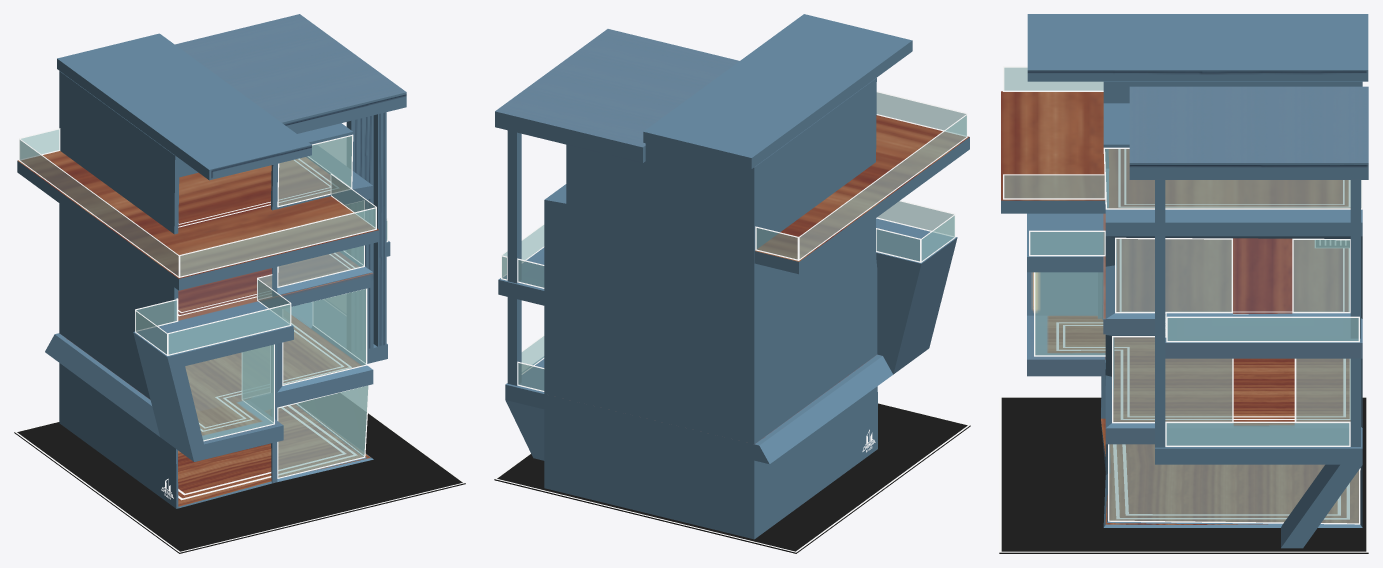
The model's file is Dhingia Builds 29 Size 1x1.glb.
The picture shows the model from 3 angles, left to right: view 1: azimuth 30°, elevation 25°; view 2: azimuth 150°, elevation 25°; view 3: azimuth 270°, elevation 25°; orthographic projection. The views are drawn at different scales.
Parts seen in each view (by area): view 1: Building, Building.001, Glass, Ground, Lights; view 2: Building.001, Building, Glass, Ground; view 3: Building, Glass, Building.001, Ground, Lights.
Part boxes in pixels (left/top/right/bottom): Building: left=17, top=14, right=406, bottom=461; Building.001: left=59, top=71, right=390, bottom=508; Glass: left=19, top=128, right=388, bottom=478; Ground: left=14, top=393, right=465, bottom=553; Lights: left=178, top=158, right=357, bottom=500; Building.001: left=498, top=78, right=877, bottom=539; Building: left=495, top=14, right=969, bottom=464; Glass: left=501, top=91, right=967, bottom=391; Ground: left=494, top=402, right=970, bottom=553; Building: left=1001, top=14, right=1368, bottom=548; Glass: left=1003, top=66, right=1362, bottom=524; Building.001: left=1101, top=81, right=1362, bottom=527; Ground: left=999, top=396, right=1368, bottom=553; Lights: left=1056, top=149, right=1350, bottom=519.
Size of what is drawn, in the model's own units: 16 by 19.47 by 16.
Materials: 4 (1 with a texture image).
